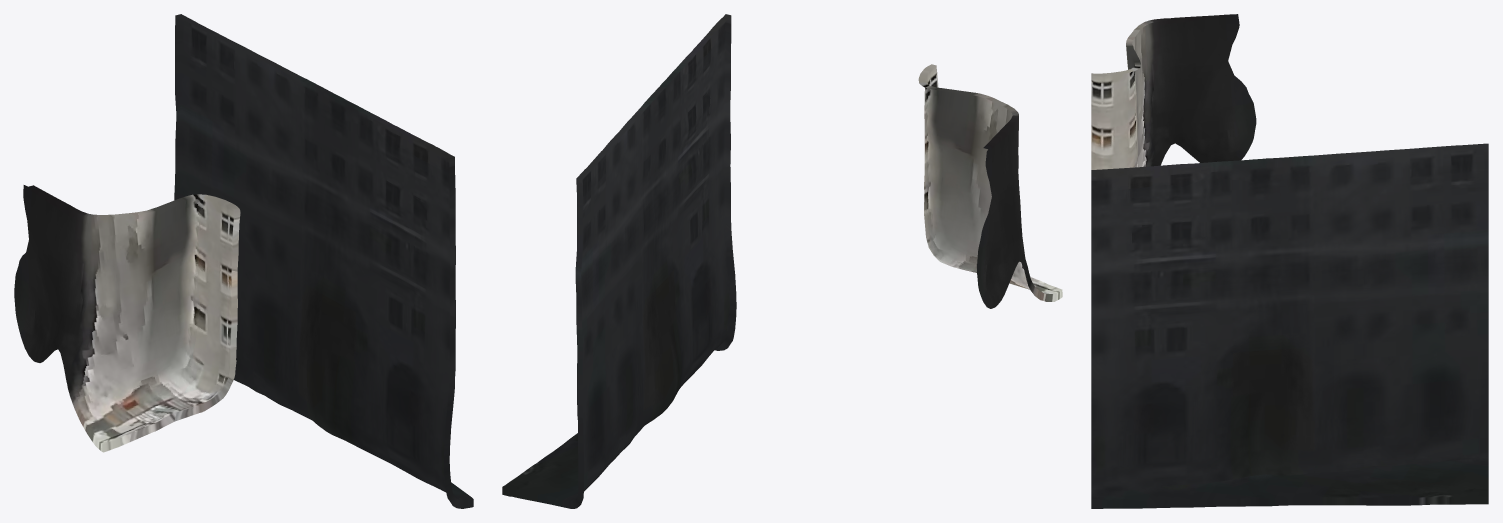
File: z20-167768-405237-h0-yup-uvflip-v3-world.glb
3 views of the same model, side by side, from view 1: azimuth 30°, elevation 25°; view 2: azimuth 150°, elevation 25°; view 3: azimuth 270°, elevation 25° (orthographic). The views are drawn at different scales.
Bounding box in the file's own units: 30.2 × 27.6 × 30.32.
1 material, 1 textured.
